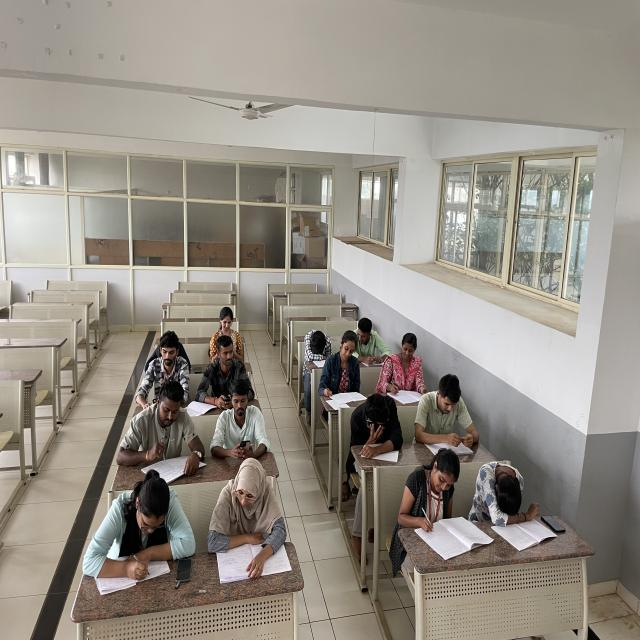Reading: (211, 458, 285, 580), (416, 367, 486, 454)
Sleeping: (466, 437, 537, 528), (295, 325, 337, 370)
Using Phone: (136, 331, 192, 416), (217, 385, 272, 457), (204, 338, 255, 409), (354, 394, 410, 450), (208, 309, 252, 362)
Writing: (87, 477, 171, 586), (402, 447, 476, 557), (124, 378, 202, 478), (376, 332, 436, 406), (318, 340, 371, 408), (356, 312, 396, 372)
